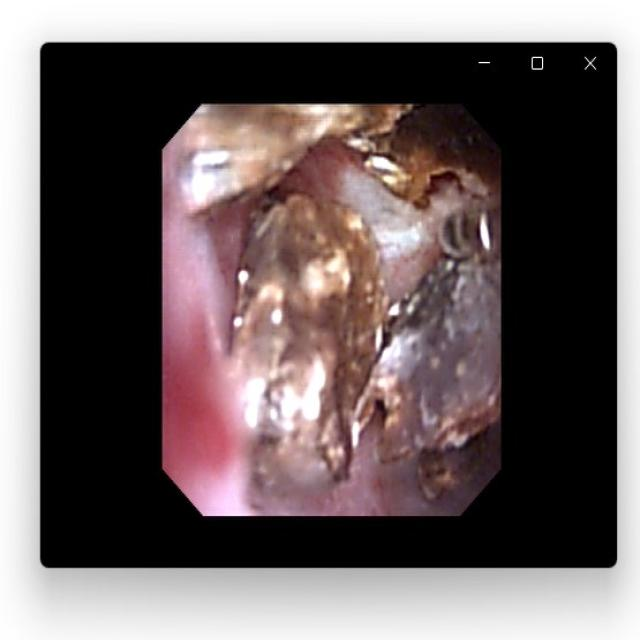stone: (235, 175, 496, 497), (185, 110, 493, 212)
